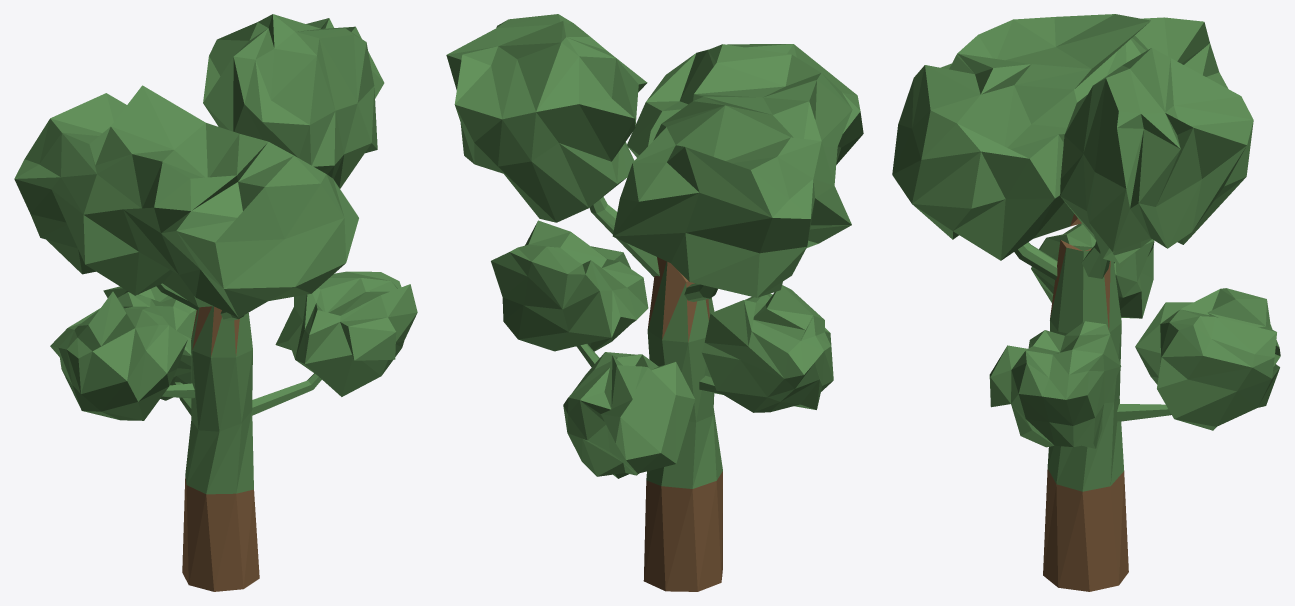
Rendered from tree3d-197.glb.
3 renders of one model, left to right at view 1: azimuth 30°, elevation 25°; view 2: azimuth 150°, elevation 25°; view 3: azimuth 270°, elevation 25°, orthographic. The views are drawn at different scales.
Parts seen in each view (by area): view 1: tree3d-197; view 2: tree3d-197; view 3: tree3d-197.
Boxes of the visible parts, bbox=[...] form: tree3d-197: bbox=[14, 14, 417, 591]; tree3d-197: bbox=[446, 14, 863, 591]; tree3d-197: bbox=[892, 14, 1280, 591].
Size of the model in its own units: 0.7057 by 1 by 0.6177.
